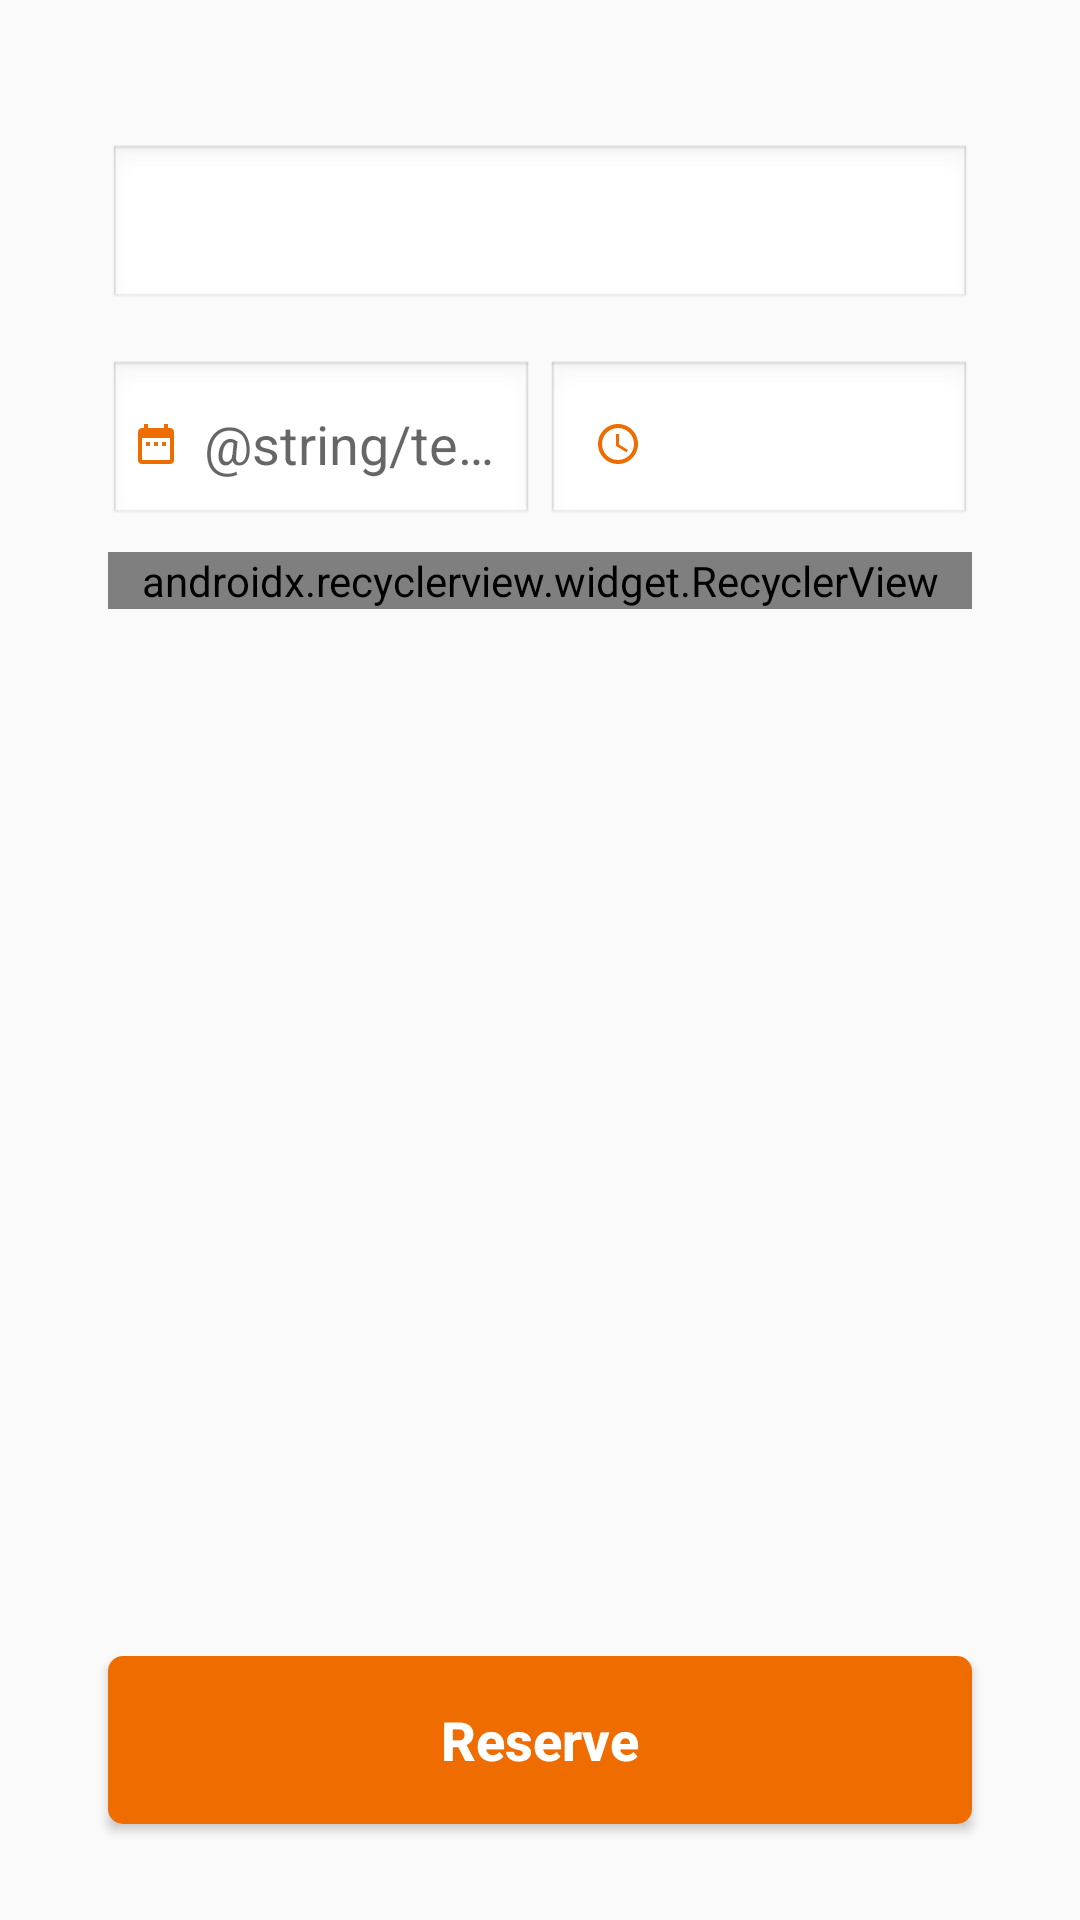

Named icons in this screenshot (1080px×1920px) and their centers, point (x, y):
time: point (618, 444)
